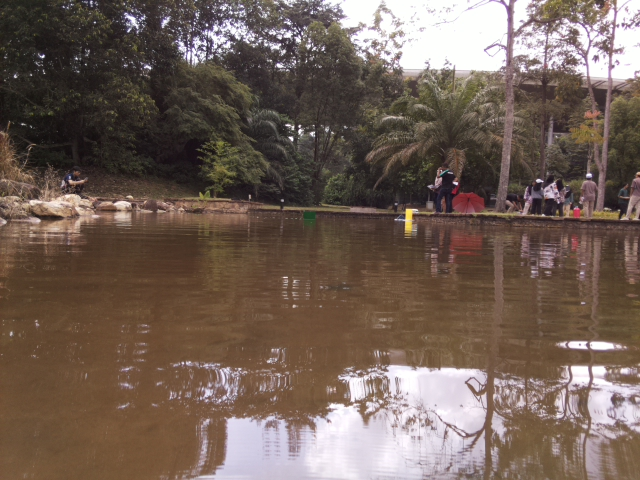obstacle: (302, 210, 317, 220)
